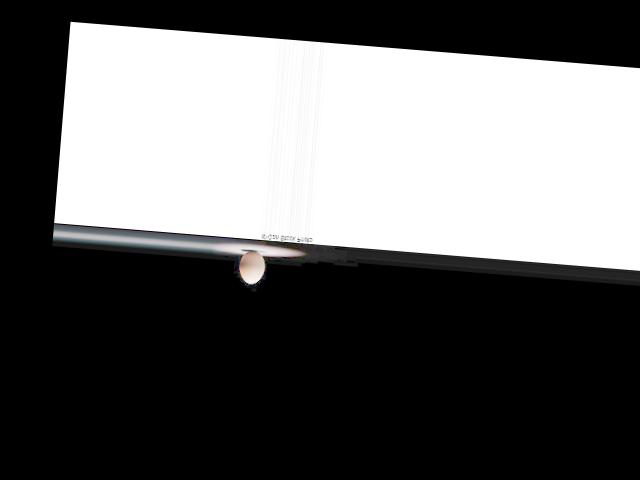egg: (237, 249, 266, 284)
